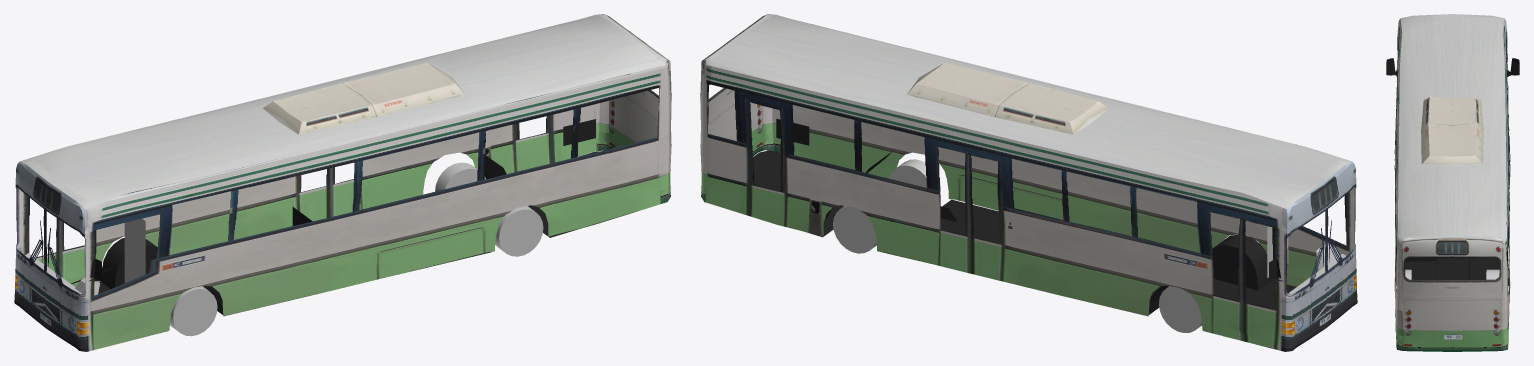
File: Bus.FBX
3 views of the same model, side by side, from view 1: azimuth 30°, elevation 25°; view 2: azimuth 150°, elevation 25°; view 3: azimuth 270°, elevation 25° (orthographic). The views are drawn at different scales.
Parts seen in each view (by area): view 1: 31BUS, rueda002, rueda, rueda003; view 2: 31BUS, rueda003, rueda001, rueda002; view 3: 31BUS, rueda003.
Part boxes in pixels (box(x1,y1,x2,y2)): 31BUS: box(14, 14, 671, 351); rueda002: box(495, 206, 543, 256); rueda: box(170, 286, 217, 336); rueda003: box(435, 162, 485, 191); 31BUS: box(700, 14, 1357, 351); rueda003: box(833, 206, 876, 253); rueda001: box(1159, 286, 1201, 332); rueda002: box(889, 159, 940, 191); 31BUS: box(1386, 14, 1519, 351); rueda003: box(1486, 269, 1499, 279).
Size of the model in its own units: 12.4 by 3.35 by 3.01.
